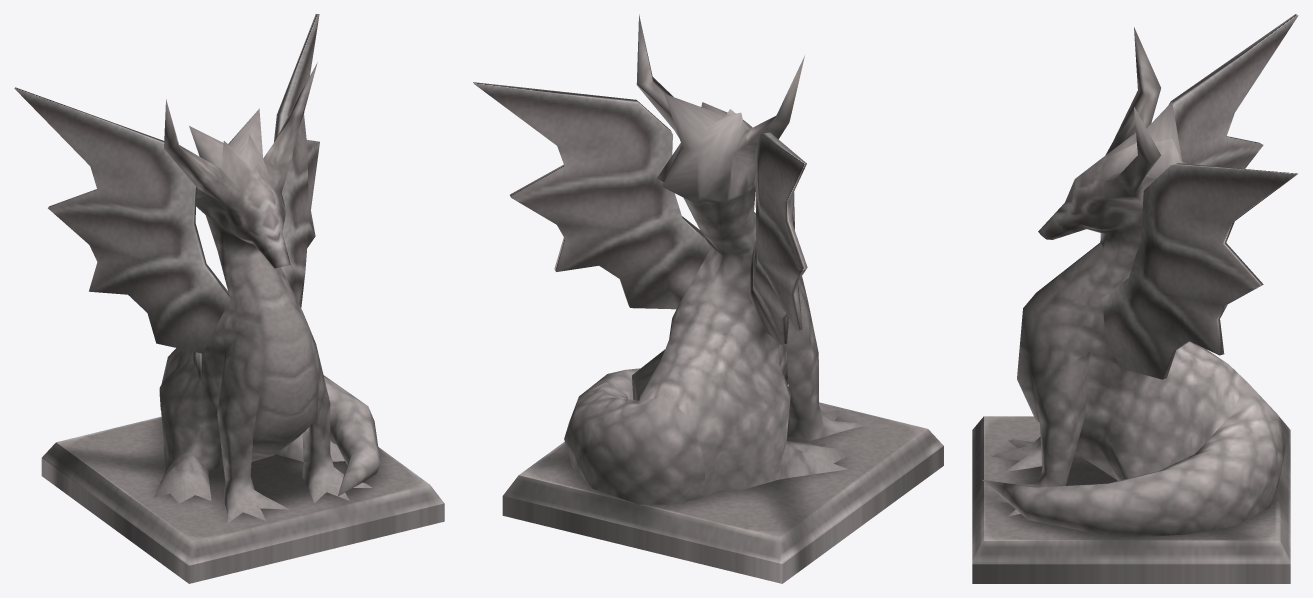
The model's file is DragonStatue_R.fbx.
3 views of the same model, side by side, from view 1: azimuth 30°, elevation 25°; view 2: azimuth 150°, elevation 25°; view 3: azimuth 270°, elevation 25° (orthographic). The views are drawn at different scales.
Visible parts, largest first — view 1: polySurface9; view 2: polySurface9; view 3: polySurface9.
Part boxes in pixels (<box>): polySurface9: <box>14,14,444,583</box>; polySurface9: <box>473,14,943,583</box>; polySurface9: <box>972,14,1298,583</box>.
Size of the model in its own units: 2.39 by 3.13 by 2.05.
